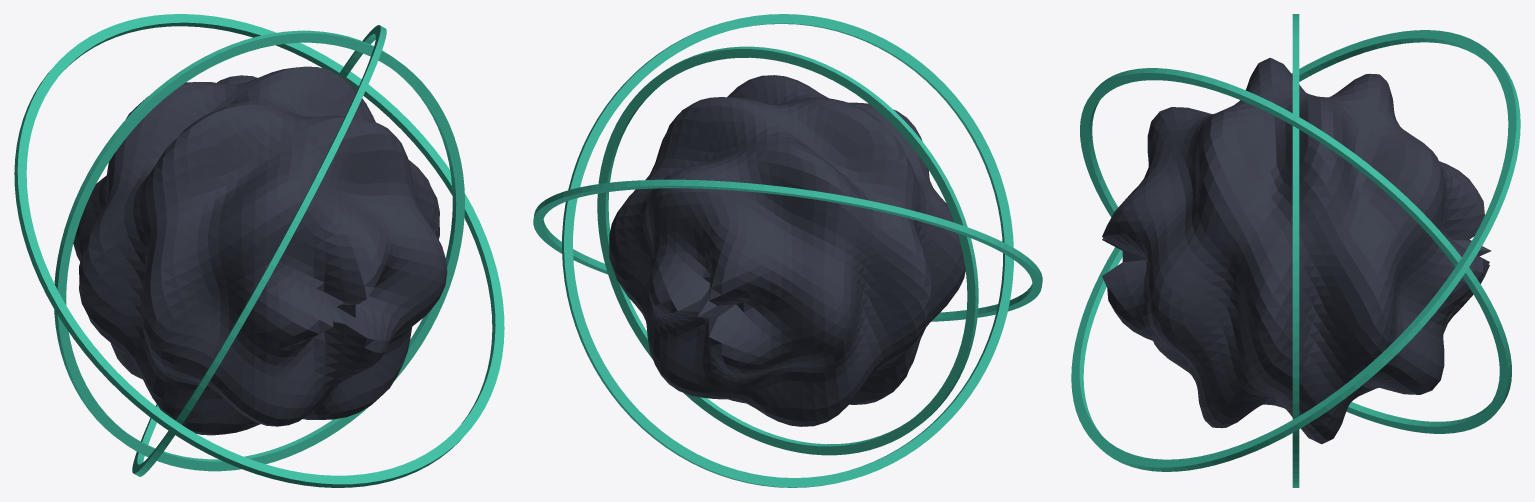
File: gpu-artifact.glb
3 renders of one model, left to right at view 1: azimuth 30°, elevation 25°; view 2: azimuth 150°, elevation 25°; view 3: azimuth 270°, elevation 25°, orthographic. The views are drawn at different scales.
Visible parts, largest first — view 1: hexstrike-arsenal_obsidian_core, hexstrike-arsenal_orbital_ring_2, hexstrike-arsenal_orbital_ring_0, hexstrike-arsenal_orbital_ring_1; view 2: hexstrike-arsenal_obsidian_core, hexstrike-arsenal_orbital_ring_1, hexstrike-arsenal_orbital_ring_0, hexstrike-arsenal_orbital_ring_2; view 3: hexstrike-arsenal_obsidian_core, hexstrike-arsenal_orbital_ring_2, hexstrike-arsenal_orbital_ring_1, hexstrike-arsenal_orbital_ring_0.
Part boxes in pixels (<box>): hexstrike-arsenal_obsidian_core: <box>73,66,447,435</box>; hexstrike-arsenal_orbital_ring_2: <box>14,14,504,487</box>; hexstrike-arsenal_orbital_ring_0: <box>54,30,464,471</box>; hexstrike-arsenal_orbital_ring_1: <box>132,25,386,476</box>; hexstrike-arsenal_obsidian_core: <box>609,75,965,426</box>; hexstrike-arsenal_orbital_ring_1: <box>562,14,1013,487</box>; hexstrike-arsenal_orbital_ring_0: <box>597,46,978,455</box>; hexstrike-arsenal_orbital_ring_2: <box>533,179,1042,321</box>; hexstrike-arsenal_obsidian_core: <box>1102,57,1491,444</box>; hexstrike-arsenal_orbital_ring_2: <box>1071,30,1520,471</box>; hexstrike-arsenal_orbital_ring_1: <box>1080,68,1511,433</box>; hexstrike-arsenal_orbital_ring_0: <box>1292,14,1299,487</box>.
Bounding box in the file's own units: 3.18 × 2.76 × 2.62.
